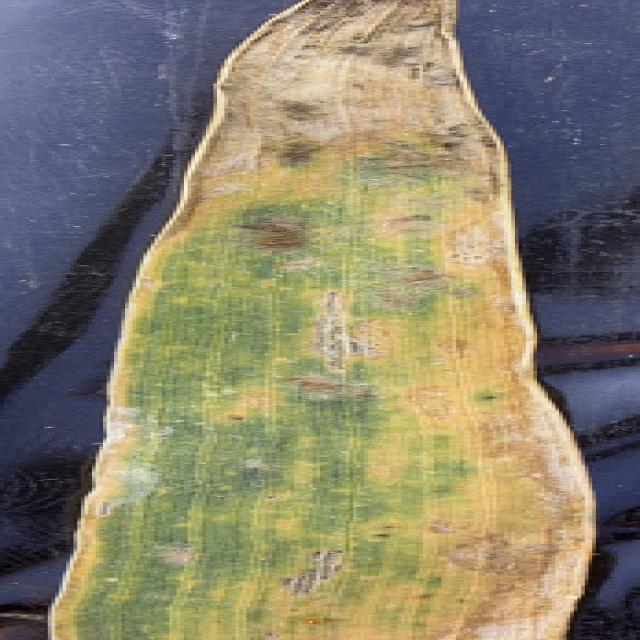wheat-powdery-mildew: (48, 0, 600, 640)
